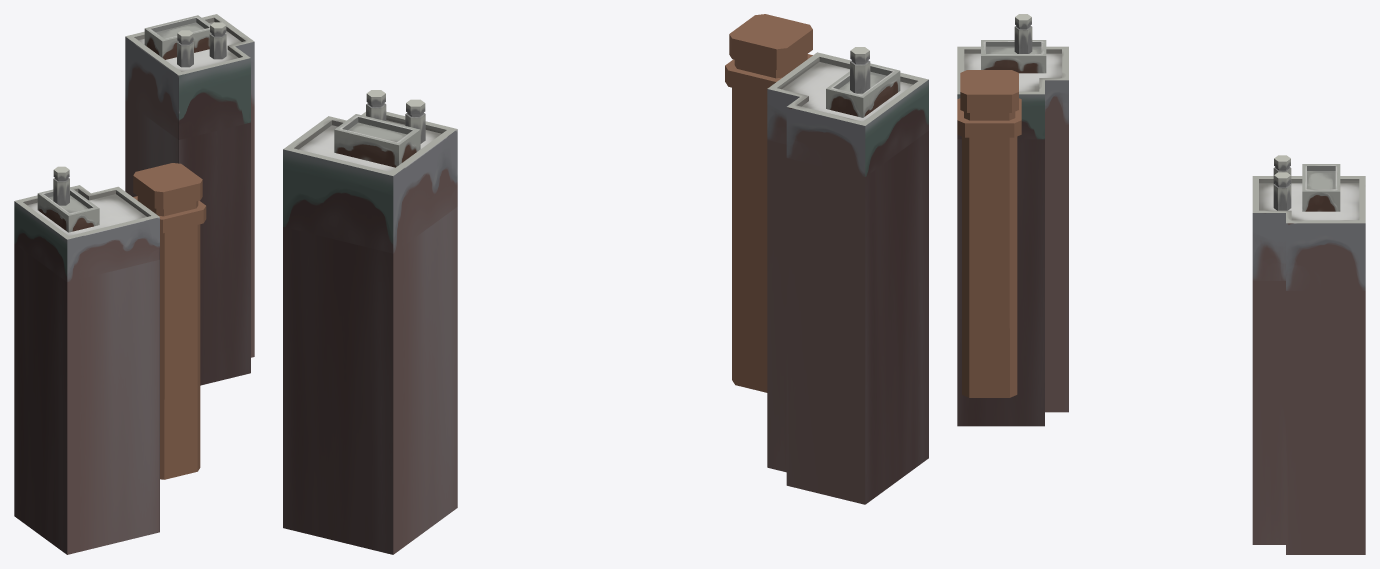
File: Main_1003_obj_03.fbx
3 views of the same model, side by side, from view 1: azimuth 30°, elevation 25°; view 2: azimuth 150°, elevation 25°; view 3: azimuth 270°, elevation 25° (orthographic). The views are drawn at different scales.
Visible parts, largest first — view 1: Cube.028, Cube.030, Cube.026, Cube.029, Cube.027, Cylinder.002, Cylinder.004, Cylinder.003; view 2: Cube.030, Cube.028, Cube.026, Cube.029, Cube.027, Cylinder.002; view 3: Cube.030, Cube.028, Cube.026, Cube.027, Cube.029, Cylinder.002, Cylinder.004.
Boxes of the visible parts, box(x1,y1,x2,y2) form: Cube.028: box(14, 185, 159, 554); Cube.030: box(125, 14, 254, 385); Cube.026: box(133, 163, 206, 479); Cube.029: box(144, 15, 210, 59); Cube.027: box(37, 187, 99, 232); Cylinder.002: box(53, 166, 69, 205); Cylinder.004: box(209, 22, 226, 59); Cylinder.003: box(177, 30, 193, 67); Cube.030: box(283, 111, 457, 554); Cube.028: box(767, 52, 928, 504); Cube.026: box(725, 14, 812, 392); Cube.029: box(334, 114, 420, 167); Cube.027: box(826, 63, 900, 117); Cylinder.002: box(850, 47, 870, 93); Cube.030: box(1252, 176, 1365, 554); Cube.028: box(957, 46, 1068, 426); Cube.026: box(957, 70, 1021, 397); Cube.027: box(981, 40, 1046, 73); Cube.029: box(1302, 164, 1340, 211); Cylinder.002: box(1014, 14, 1032, 53); Cylinder.004: box(1273, 172, 1291, 210).
Bounding box in the file's own units: 236 × 233 × 230.
